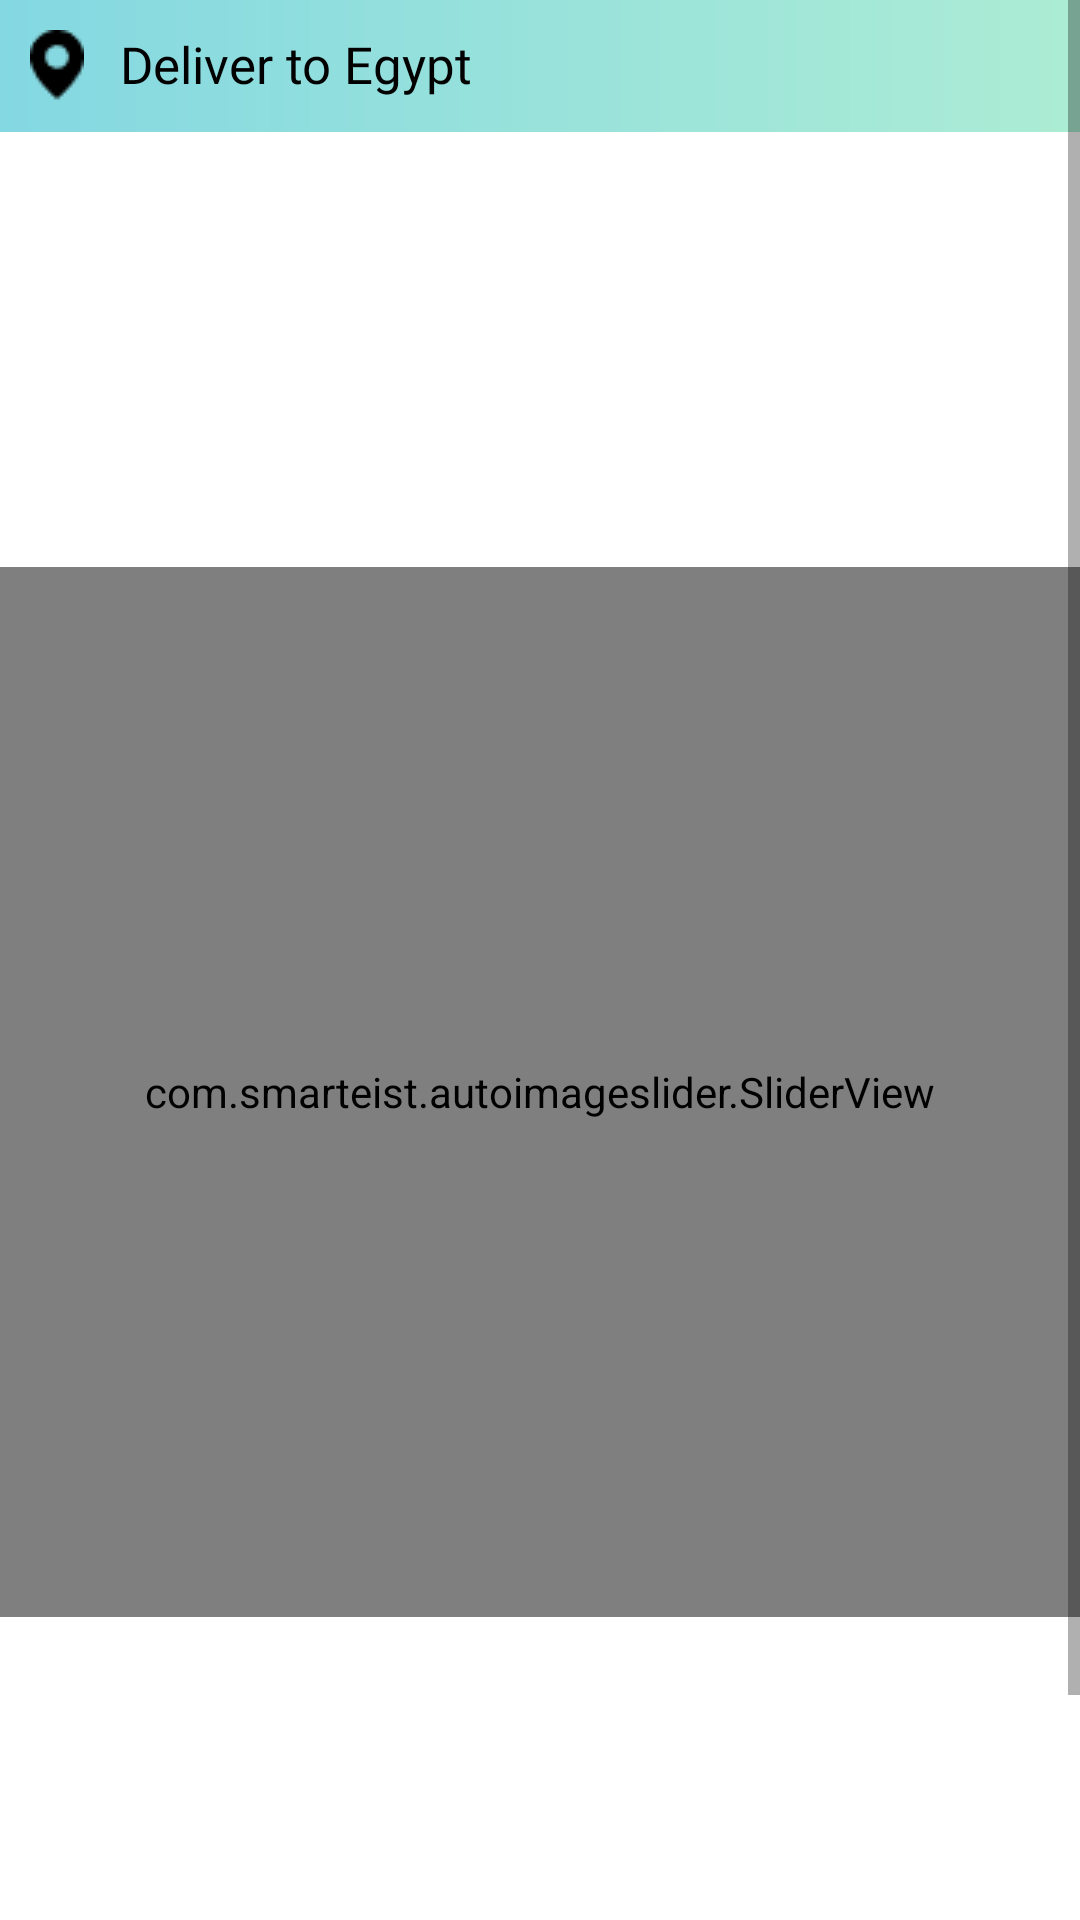

Icons on this 1080x1920 Android screen, each with the point to tap as (x=x, y=y):
location: (x=57, y=65)
